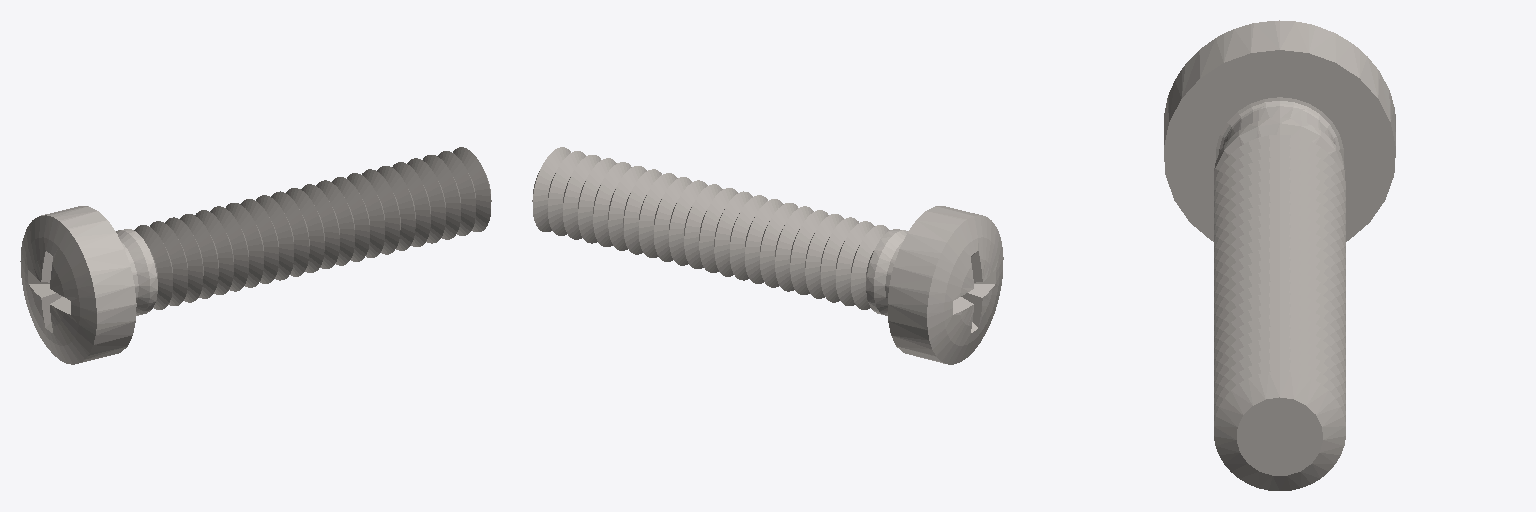
robot.urdf — cross_bolt:
<?xml version="1.0" encoding="utf-8"?>
<!-- This URDF was automatically created by SolidWorks to URDF Exporter! Originally created by [author] ([email redacted]) 
     Commit Version: 1.6.0-4-g7f85cfe  Build Version: 1.6.7995.38578
     For more information, please see http://wiki.ros.org/sw_urdf_exporter -->
<robot
  name="cross_bolt">
  <link
    name="cross_bolt_base_link">
    <inertial>
      <origin
        xyz="0.0112784082785657 -9.75781955236954E-19 -6.93889390390723E-18"
        rpy="0 0 0" />
      <mass
        value="0.0331200970992961" />
      <inertia
        ixx="6.26315617828587E-07"
        ixy="-4.86313921889038E-22"
        ixz="1.84045412422042E-22"
        iyy="1.0649551524146E-05"
        iyz="-1.32753122485564E-22"
        izz="1.0649551524146E-05" />
    </inertial>
    <visual>
      <origin
        xyz="0 0 0"
        rpy="0 0 0" />
      <geometry>
        <mesh
          filename="package://cross_bolt/meshes/cross_bolt_base_link.dae" />
      </geometry>
      <material
        name="">
        <color
          rgba="0.776470588235294 0.756862745098039 0.737254901960784 1" />
      </material>
    </visual>
    <collision>
      <origin
        xyz="0 0 0"
        rpy="0 0 0" />
      <geometry>
        <mesh
          filename="package://cross_bolt/meshes/cross_bolt_base_link.dae" />
      </geometry>
    </collision>
  </link>
</robot>

--- What the picture shows (computed from the rendered views, not written in the file) ---
The picture shows the robot from 3 angles, left to right: view 1: azimuth 30°, elevation 25°; view 2: azimuth 150°, elevation 25°; view 3: azimuth 270°, elevation 25°; orthographic projection.
Robot: cross_bolt — 1 links, 0 joints (none); root link cross_bolt_base_link; default pose: all joints at 0.
Links seen in each view (by area): view 1: cross_bolt_base_link; view 2: cross_bolt_base_link; view 3: cross_bolt_base_link.
Link boxes in pixels (<box>): cross_bolt_base_link: <box>20,147,491,364</box>; cross_bolt_base_link: <box>532,147,1003,364</box>; cross_bolt_base_link: <box>1164,20,1395,490</box>.
Size in the robot's own frame: 0.057 by 0.0175 by 0.0175 metres.
1 mesh visuals loaded from 1 distinct referenced files (1 Collada DAE).